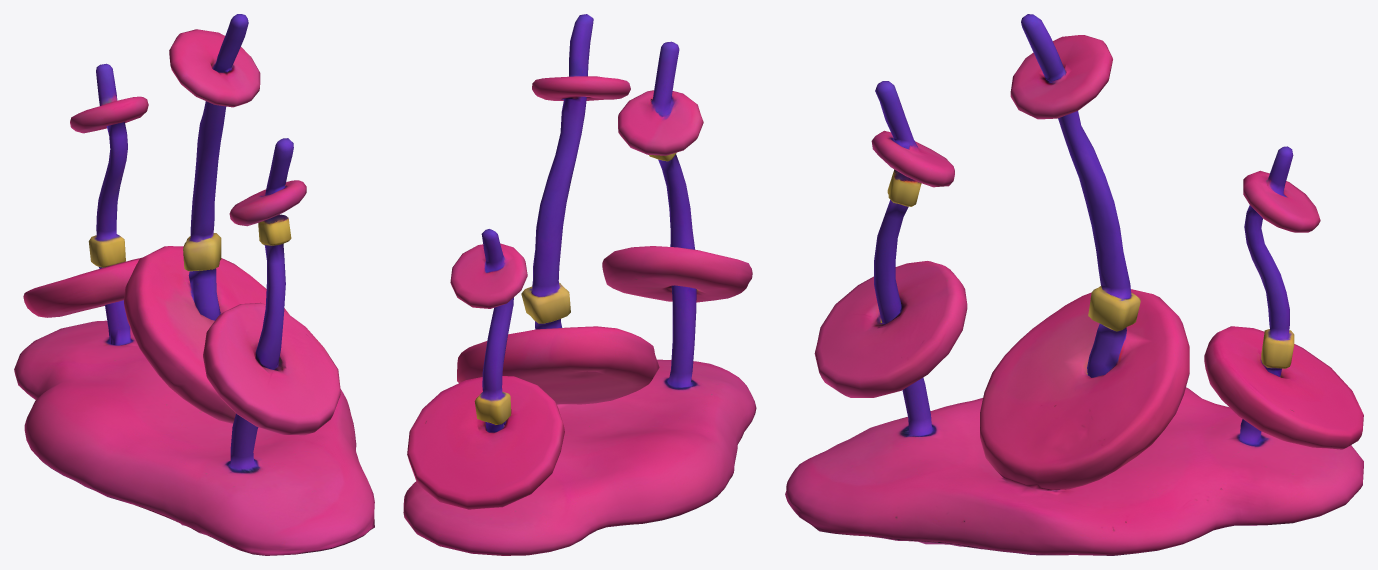
Rendered from 2a61ea7e-5c44-4ece-b780-69c741790972.glb.
3 views of the same model, side by side, from view 1: azimuth 30°, elevation 25°; view 2: azimuth 150°, elevation 25°; view 3: azimuth 270°, elevation 25° (orthographic). The views are drawn at different scales.
Parts seen in each view (by area): view 1: tripo_node_6fe25df9-e2d1-45d8-a6f9-e7e13a7f5cad; view 2: tripo_node_6fe25df9-e2d1-45d8-a6f9-e7e13a7f5cad; view 3: tripo_node_6fe25df9-e2d1-45d8-a6f9-e7e13a7f5cad.
Boxes of the visible parts, x1=… form: tripo_node_6fe25df9-e2d1-45d8-a6f9-e7e13a7f5cad: x1=14, y1=14, x2=374, y2=555; tripo_node_6fe25df9-e2d1-45d8-a6f9-e7e13a7f5cad: x1=403, y1=14, x2=756, y2=555; tripo_node_6fe25df9-e2d1-45d8-a6f9-e7e13a7f5cad: x1=785, y1=14, x2=1363, y2=555.
Size of the model in its own units: 0.6321 by 0.9922 by 0.9941.
1 material, 1 textured.
